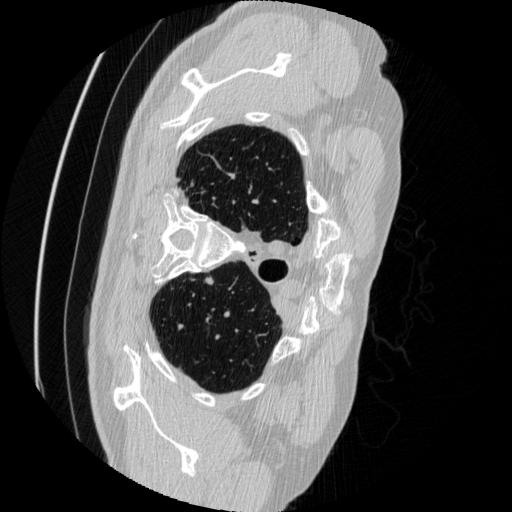nodule: (203, 276, 217, 290)
